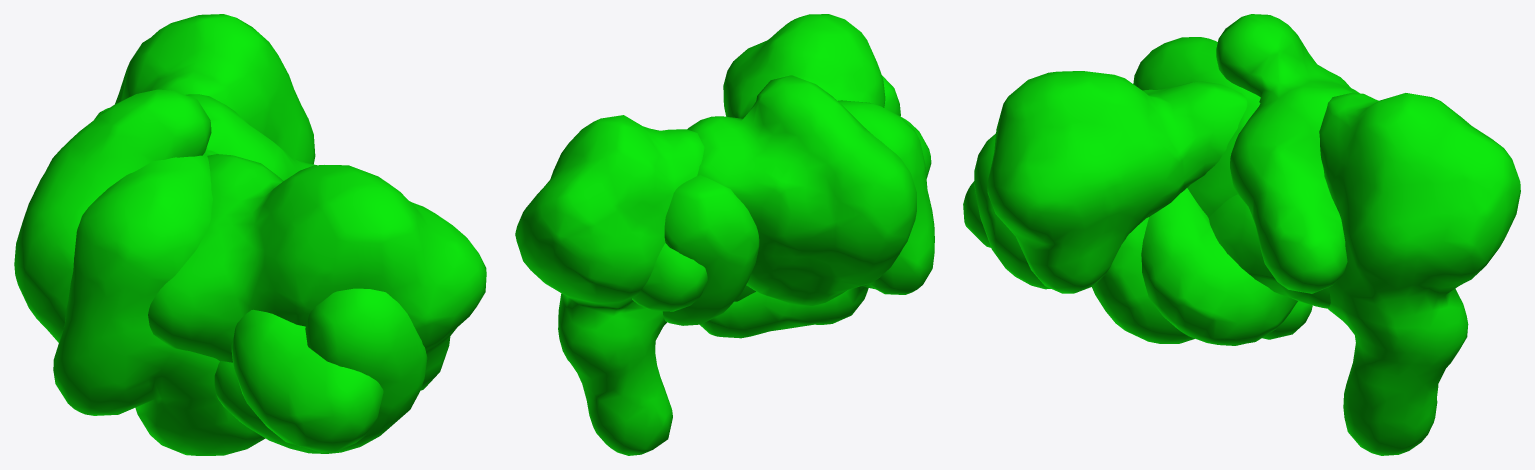
The model's file is MCM1.fbx.
3 views of the same model, side by side, from view 1: azimuth 30°, elevation 25°; view 2: azimuth 150°, elevation 25°; view 3: azimuth 270°, elevation 25° (orthographic). The views are drawn at different scales.
Parts seen in each view (by area): view 1: chain_C_surface, chain_B_surface, chain_A_surface, chain_D_surface, chain_E_surface, chain_F_surface; view 2: chain_D_surface, chain_A_surface, chain_B_surface, chain_C_surface, chain_E_surface, chain_F_surface; view 3: chain_D_surface, chain_C_surface, chain_A_surface, chain_F_surface, chain_E_surface, chain_B_surface.
Part boxes in pixels (x1,y1,x2,y2): chain_C_surface: (148, 154, 486, 390); chain_B_surface: (53, 150, 265, 455); chain_A_surface: (14, 89, 316, 342); chain_D_surface: (115, 14, 315, 164); chain_E_surface: (94, 107, 383, 452); chain_F_surface: (214, 288, 427, 453); chain_D_surface: (515, 115, 704, 455); chain_A_surface: (687, 75, 916, 305); chain_B_surface: (700, 100, 934, 338); chain_C_surface: (723, 14, 885, 118); chain_E_surface: (662, 117, 931, 325); chain_F_surface: (632, 75, 900, 311); chain_D_surface: (1319, 92, 1520, 455); chain_C_surface: (987, 71, 1247, 293); chain_A_surface: (1216, 14, 1359, 293); chain_F_surface: (974, 133, 1297, 345); chain_E_surface: (963, 181, 1330, 343); chain_B_surface: (1133, 37, 1312, 339).
Bounding box in the file's own units: 68.66 × 77.86 × 104.
